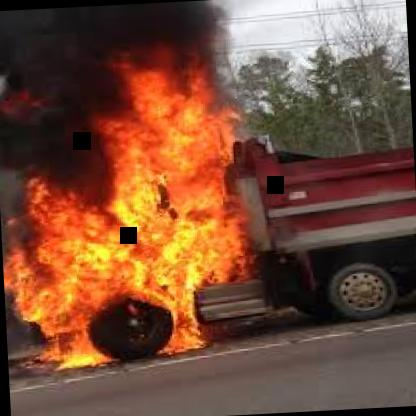fire: (0, 93, 239, 376)
